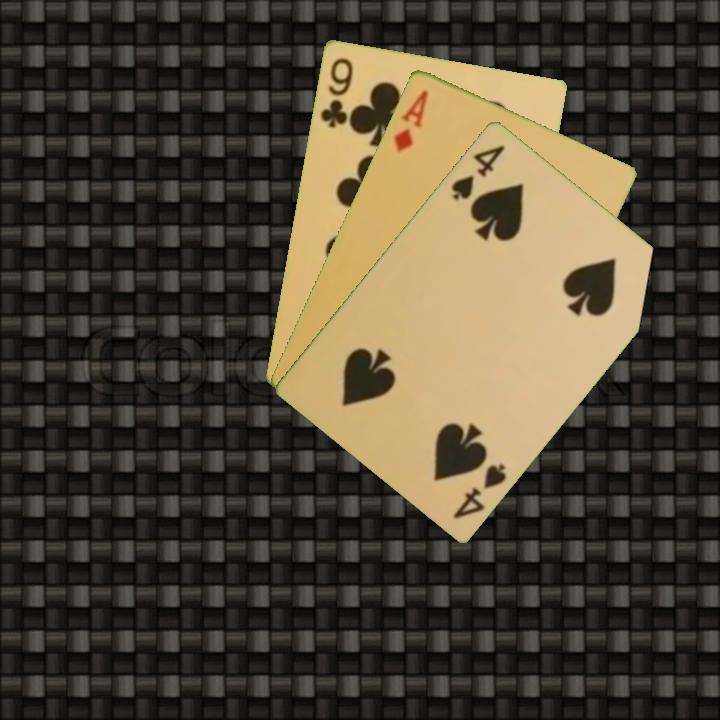4s: (447, 140, 508, 203), (449, 460, 510, 522)
9c: (316, 54, 356, 131)
Ad: (390, 85, 431, 154)
